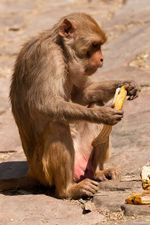monkey: (24, 16, 139, 204)
